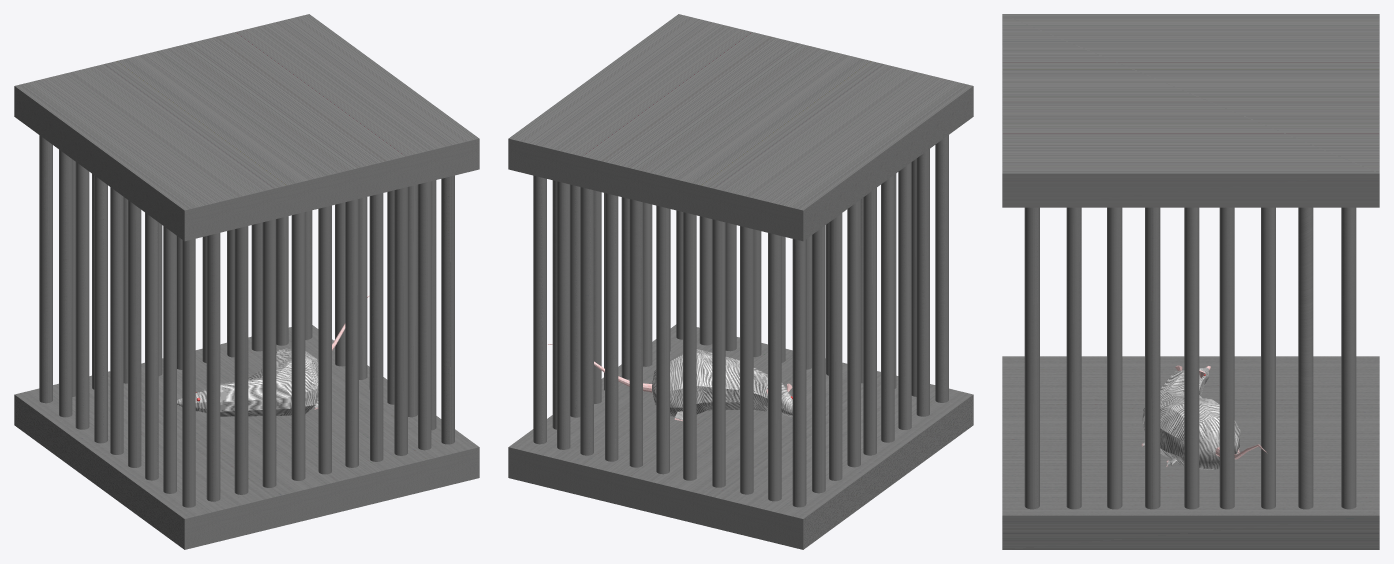
File: cagedRat3.fbx
3 views of the same model, side by side, from view 1: azimuth 30°, elevation 25°; view 2: azimuth 150°, elevation 25°; view 3: azimuth 270°, elevation 25° (orthographic). The views are drawn at different scales.
Parts seen in each view (by area): view 1: cagedRat1:pCube3, labRat:polySurface12; view 2: cagedRat1:pCube3, labRat:polySurface12; view 3: cagedRat1:pCube3, labRat:polySurface12.
Boxes of the visible parts, bbox=[...] form: cagedRat1:pCube3: bbox=[14, 14, 479, 549]; labRat:polySurface12: bbox=[177, 295, 369, 416]; cagedRat1:pCube3: bbox=[508, 14, 973, 549]; labRat:polySurface12: bbox=[547, 344, 792, 420]; cagedRat1:pCube3: bbox=[1002, 14, 1379, 549]; labRat:polySurface12: bbox=[1141, 365, 1267, 469].
Bounding box in the file's own units: 52.49 × 55 × 50.
